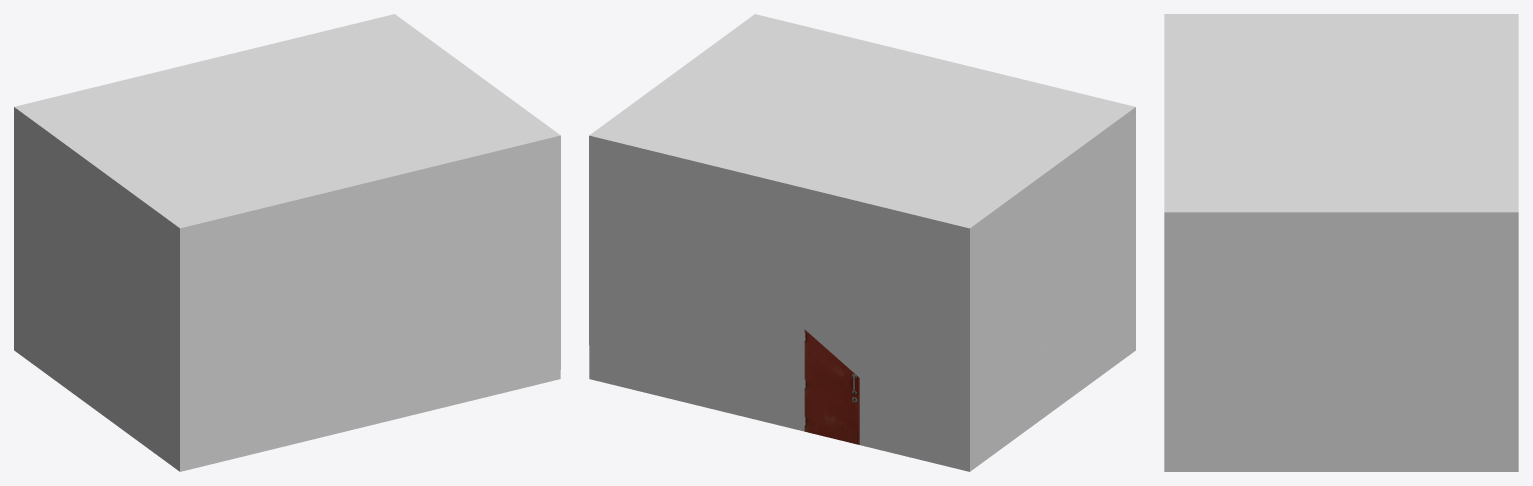
The picture shows the model from 3 angles, left to right: view 1: azimuth 30°, elevation 25°; view 2: azimuth 150°, elevation 25°; view 3: azimuth 270°, elevation 25°; orthographic projection. The views are drawn at different scales.
Visible parts, largest first — view 1: Cube, Cube.007, Cube.009; view 2: Cube, MetalDoor3, Cube.009; view 3: Cube, Cube.006.
Part boxes in pixels (x1,y1,x2,y2): Cube: (14, 14, 560, 471); Cube.007: (361, 277, 441, 351); Cube.009: (65, 270, 100, 348); Cube: (589, 14, 1135, 471); MetalDoor3: (804, 329, 859, 444); Cube.009: (1021, 291, 1056, 368); Cube: (1164, 14, 1518, 471); Cube.006: (1260, 287, 1515, 471).
Bounding box in the file's own units: 1182 × 1565 × 962.
